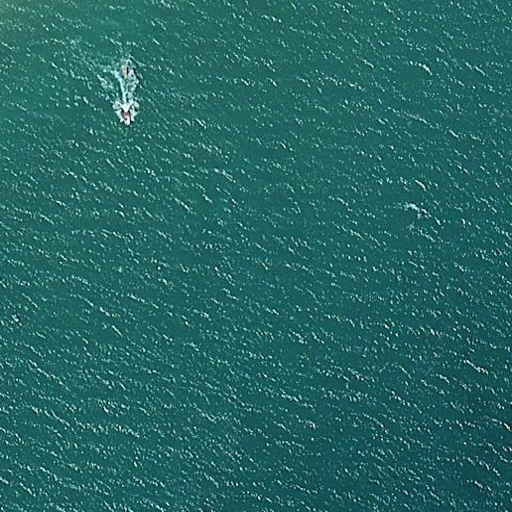ship: (112, 98, 138, 128)
